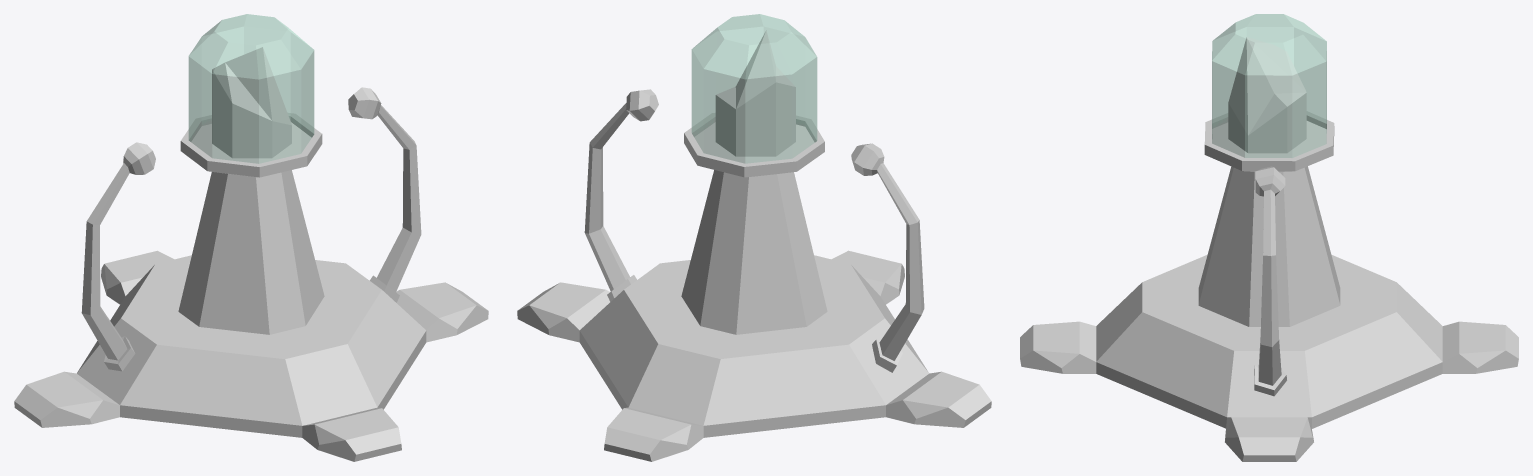
The model's file is Hail Storm turret.fbx.
The picture shows the model from 3 angles, left to right: view 1: azimuth 30°, elevation 25°; view 2: azimuth 150°, elevation 25°; view 3: azimuth 270°, elevation 25°; orthographic projection. The views are drawn at different scales.
Visible parts, largest first — view 1: Roundcube.009, Roundcube.010; view 2: Roundcube.009, Roundcube.010; view 3: Roundcube.009, Roundcube.010.
Boxes of the visible parts, <box> form: Roundcube.009: <box>14,47,488,461</box>; Roundcube.010: <box>188,14,314,163</box>; Roundcube.009: <box>517,30,991,461</box>; Roundcube.010: <box>691,14,817,163</box>; Roundcube.009: <box>1020,37,1518,461</box>; Roundcube.010: <box>1212,14,1326,157</box>.
Bounding box in the file's own units: 64.6 × 46.05 × 63.57.
